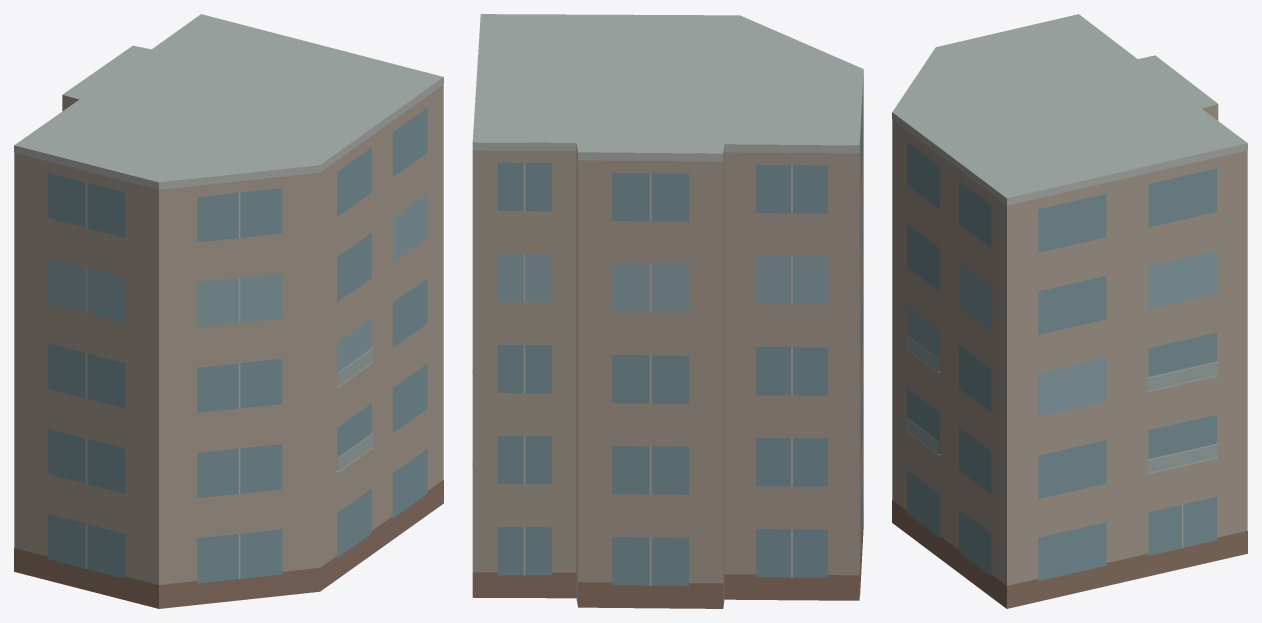
Rendered from survey-upis-32919809.glb.
3 views of the same model, side by side, from view 1: azimuth 30°, elevation 25°; view 2: azimuth 150°, elevation 25°; view 3: azimuth 270°, elevation 25° (orthographic). The views are drawn at different scales.
Parts seen in each view (by area): view 1: survey-upis-32919809.tmp; view 2: survey-upis-32919809.tmp; view 3: survey-upis-32919809.tmp.
Part boxes in pixels (left/top/right/bottom): survey-upis-32919809.tmp: left=14, top=14, right=443, bottom=608; survey-upis-32919809.tmp: left=472, top=14, right=863, bottom=608; survey-upis-32919809.tmp: left=892, top=14, right=1247, bottom=608.
Bounding box in the file's own units: 13.39 × 13.9 × 10.92.
